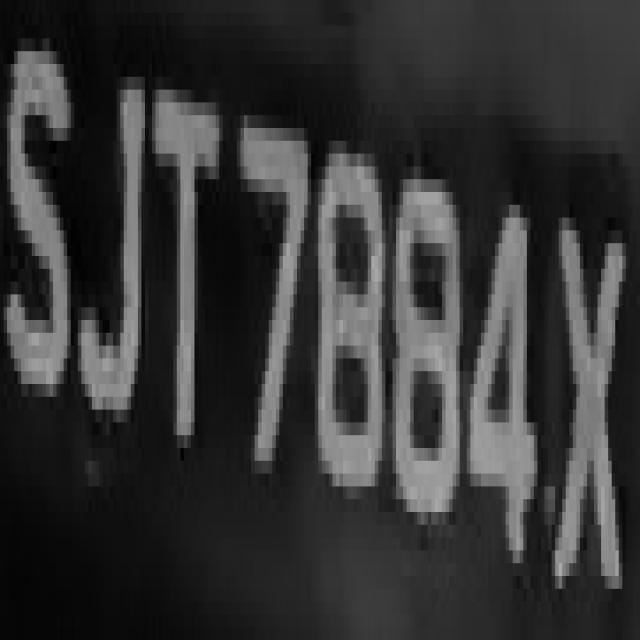4: (456, 103, 538, 602)
7: (234, 38, 312, 550)
8: (389, 128, 463, 576), (315, 102, 389, 538)
J: (81, 26, 156, 448)
S: (7, 25, 81, 422)
T: (145, 38, 226, 461)
X: (548, 128, 633, 614)
